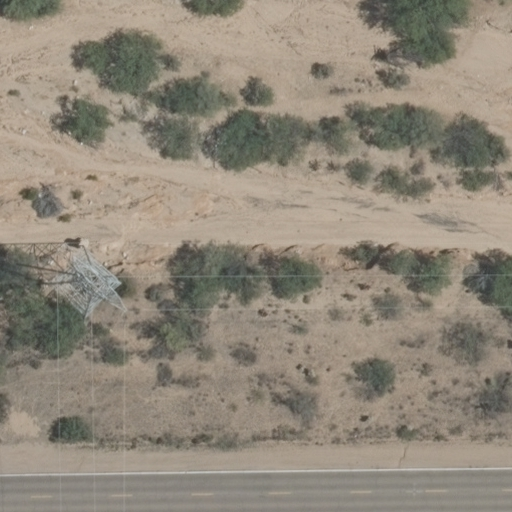TT: (35, 237, 140, 342)
